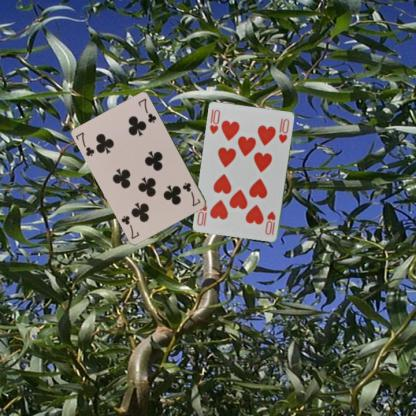10h: (263, 208, 277, 237), (208, 107, 222, 136)
7c: (73, 129, 96, 158), (180, 180, 202, 207)
